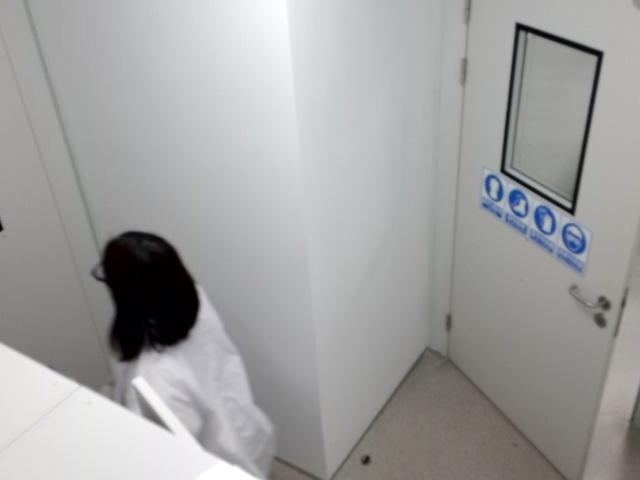Lab_coat: (92, 231, 274, 476)
